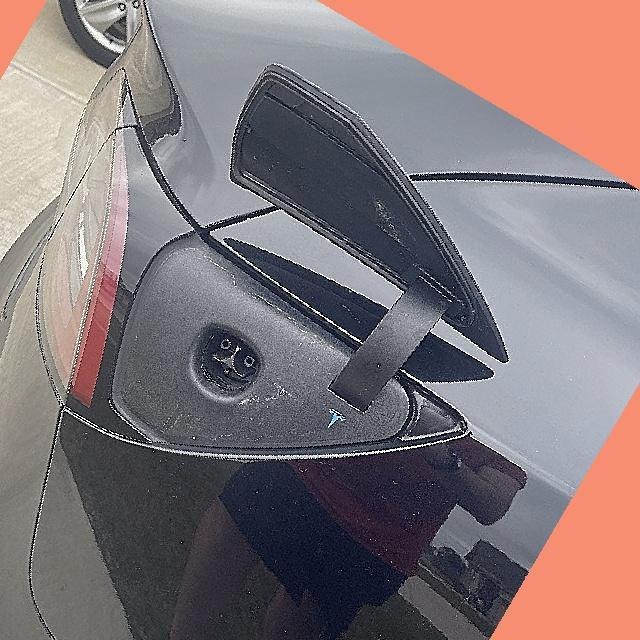Tesla Model-S-: (170, 313, 275, 417)
